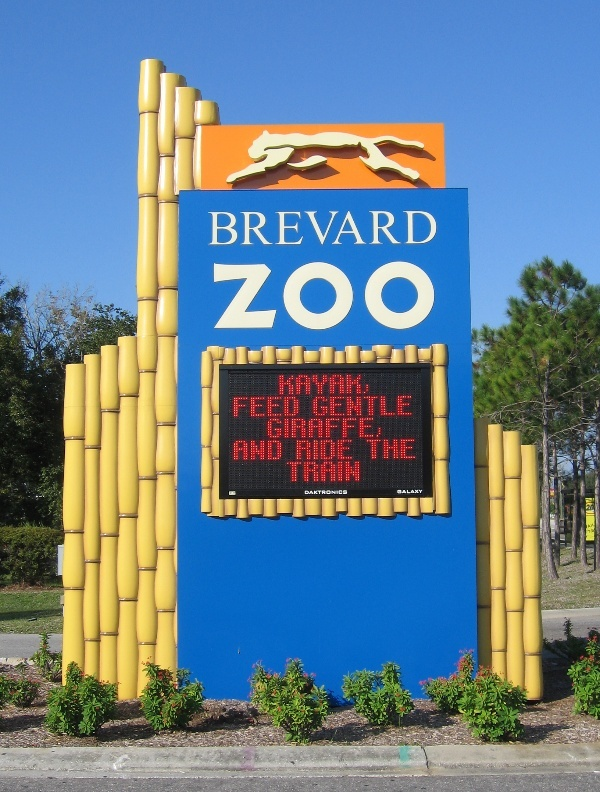text: (225, 261, 240, 331), (241, 261, 256, 331), (257, 261, 272, 331), (273, 261, 288, 331), (289, 261, 304, 331), (305, 261, 320, 331), (321, 261, 336, 331), (337, 261, 352, 331), (353, 261, 368, 331), (369, 261, 384, 331), (385, 261, 400, 331), (401, 261, 416, 331), (417, 261, 432, 331), (212, 261, 224, 331), (209, 210, 224, 246), (225, 210, 240, 246), (241, 210, 256, 246), (257, 210, 272, 246), (273, 210, 288, 246), (289, 210, 304, 246), (305, 210, 320, 246), (321, 210, 336, 246), (337, 210, 352, 246), (353, 210, 368, 246), (369, 210, 384, 246), (385, 210, 400, 246), (401, 210, 416, 246), (417, 210, 432, 246), (353, 374, 369, 395), (337, 440, 353, 460), (289, 374, 304, 395), (305, 374, 320, 395), (321, 374, 336, 395), (337, 374, 352, 395), (241, 440, 256, 461), (257, 440, 272, 461), (289, 461, 304, 482), (305, 461, 320, 482), (321, 461, 336, 482), (337, 461, 352, 482), (241, 397, 256, 417), (257, 397, 272, 417), (273, 397, 288, 417), (321, 396, 336, 416), (337, 396, 352, 416), (353, 396, 368, 416), (369, 396, 384, 416), (385, 396, 400, 416), (273, 418, 288, 438), (289, 418, 304, 438), (305, 418, 320, 438), (321, 418, 336, 438), (337, 418, 352, 438), (353, 418, 368, 438), (305, 440, 320, 460), (321, 440, 336, 460), (369, 440, 384, 459), (385, 440, 400, 459), (401, 440, 416, 459), (369, 418, 382, 438), (401, 396, 413, 416), (433, 261, 436, 331), (289, 397, 299, 417), (279, 374, 288, 395), (273, 440, 282, 461), (433, 210, 438, 246), (312, 396, 320, 416), (296, 440, 304, 460), (233, 440, 240, 461), (353, 461, 360, 482), (234, 397, 240, 417), (267, 418, 272, 438), (401, 489, 416, 495), (305, 490, 320, 495), (321, 490, 336, 495), (337, 490, 348, 495), (586, 504, 592, 512), (417, 489, 423, 495), (587, 529, 592, 534), (588, 523, 592, 529), (287, 461, 288, 482), (367, 440, 368, 459), (397, 489, 400, 495), (593, 523, 596, 529), (593, 504, 595, 512), (593, 529, 595, 534)
